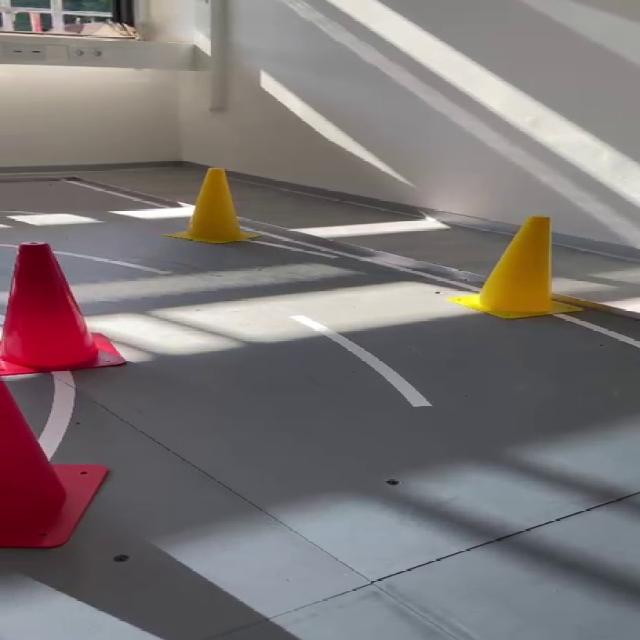Cone-red: (0, 380, 108, 548), (0, 243, 124, 376)
Cones-yellow: (448, 216, 578, 318), (168, 168, 259, 243)
